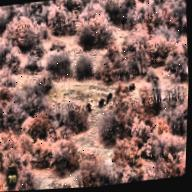boar: (99, 95, 104, 110), (107, 91, 112, 105), (130, 81, 134, 92), (87, 101, 90, 112)
